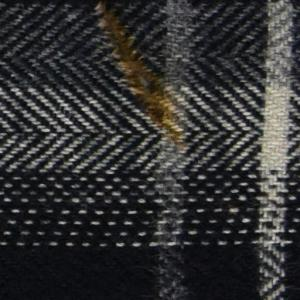Damage: (120, 49, 173, 127)
Oil Stain: (94, 1, 191, 153)
